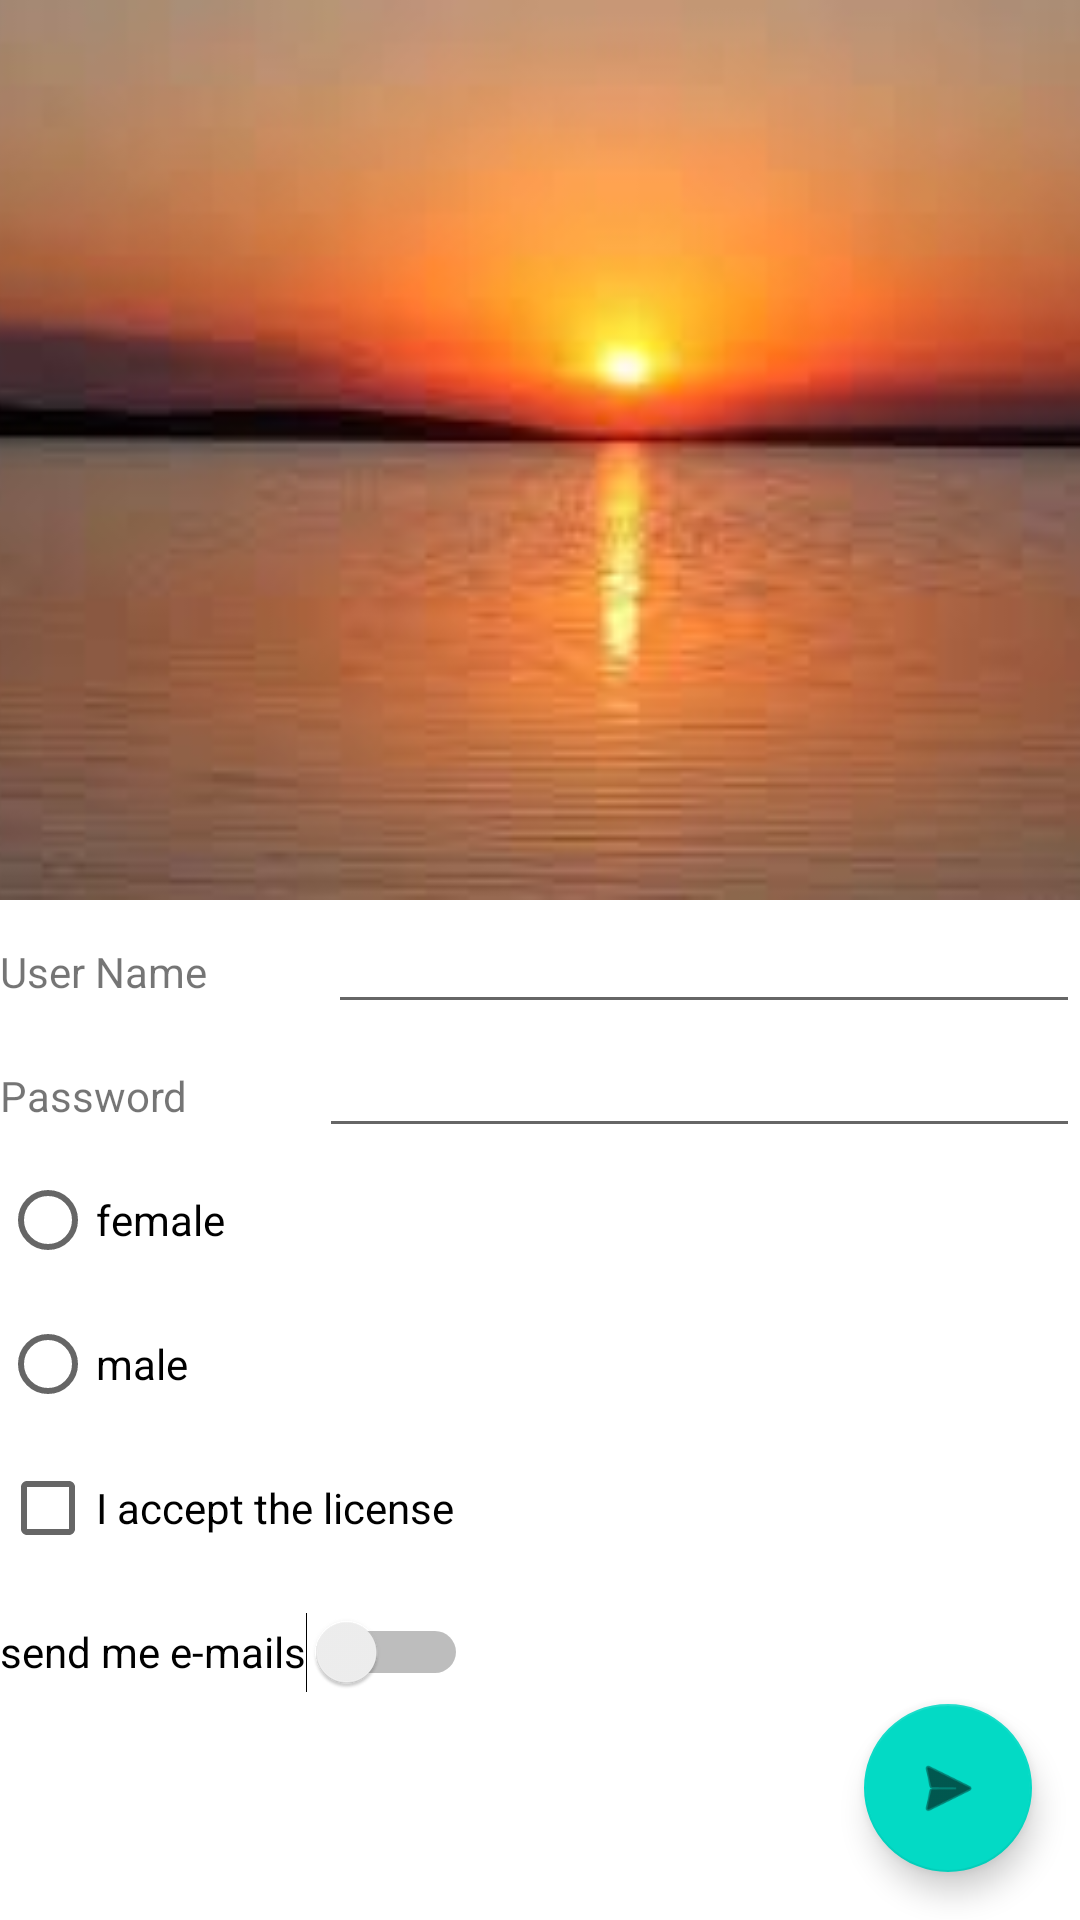

Icon click points for this 1080x1920 phone screenshot, format [x,y]:
send: [948,1788]
